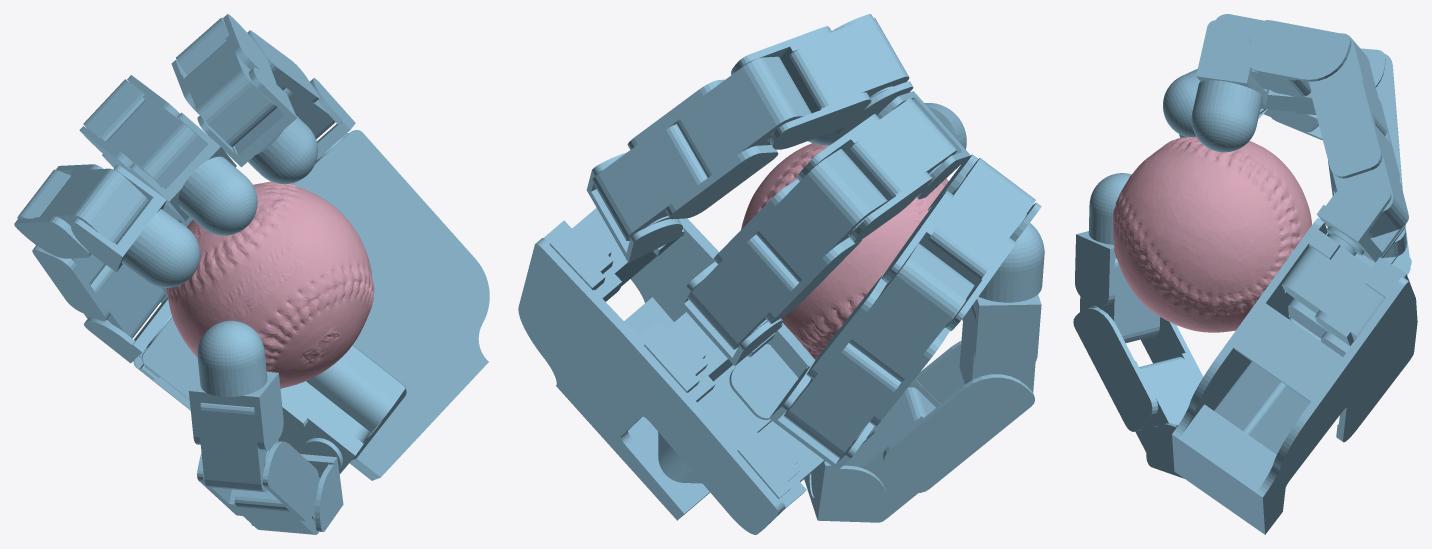
The picture shows the model from 3 angles, left to right: view 1: azimuth 30°, elevation 25°; view 2: azimuth 150°, elevation 25°; view 3: azimuth 270°, elevation 25°; orthographic projection. The views are drawn at different scales.
Parts seen in each view (by area): view 1: world; view 2: world; view 3: world.
Part boxes in pixels (x1=…): world: x1=14, y1=14, x2=489, y2=534; world: x1=518, y1=14, x2=1044, y2=534; world: x1=1073, y1=14, x2=1417, y2=534.
Size of the model in its own units: 0.1764 by 0.1821 by 0.1253.
